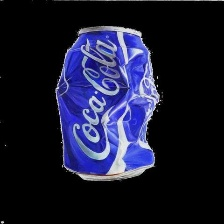can: (50, 24, 162, 190)
